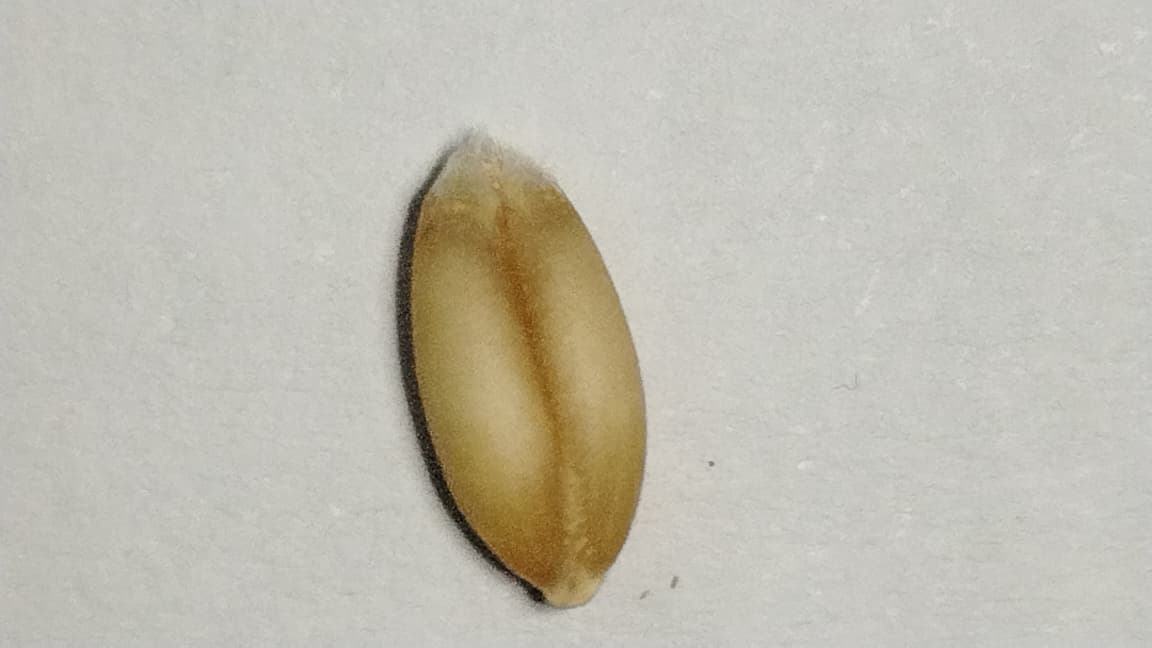healthy: (408, 133, 646, 585)
